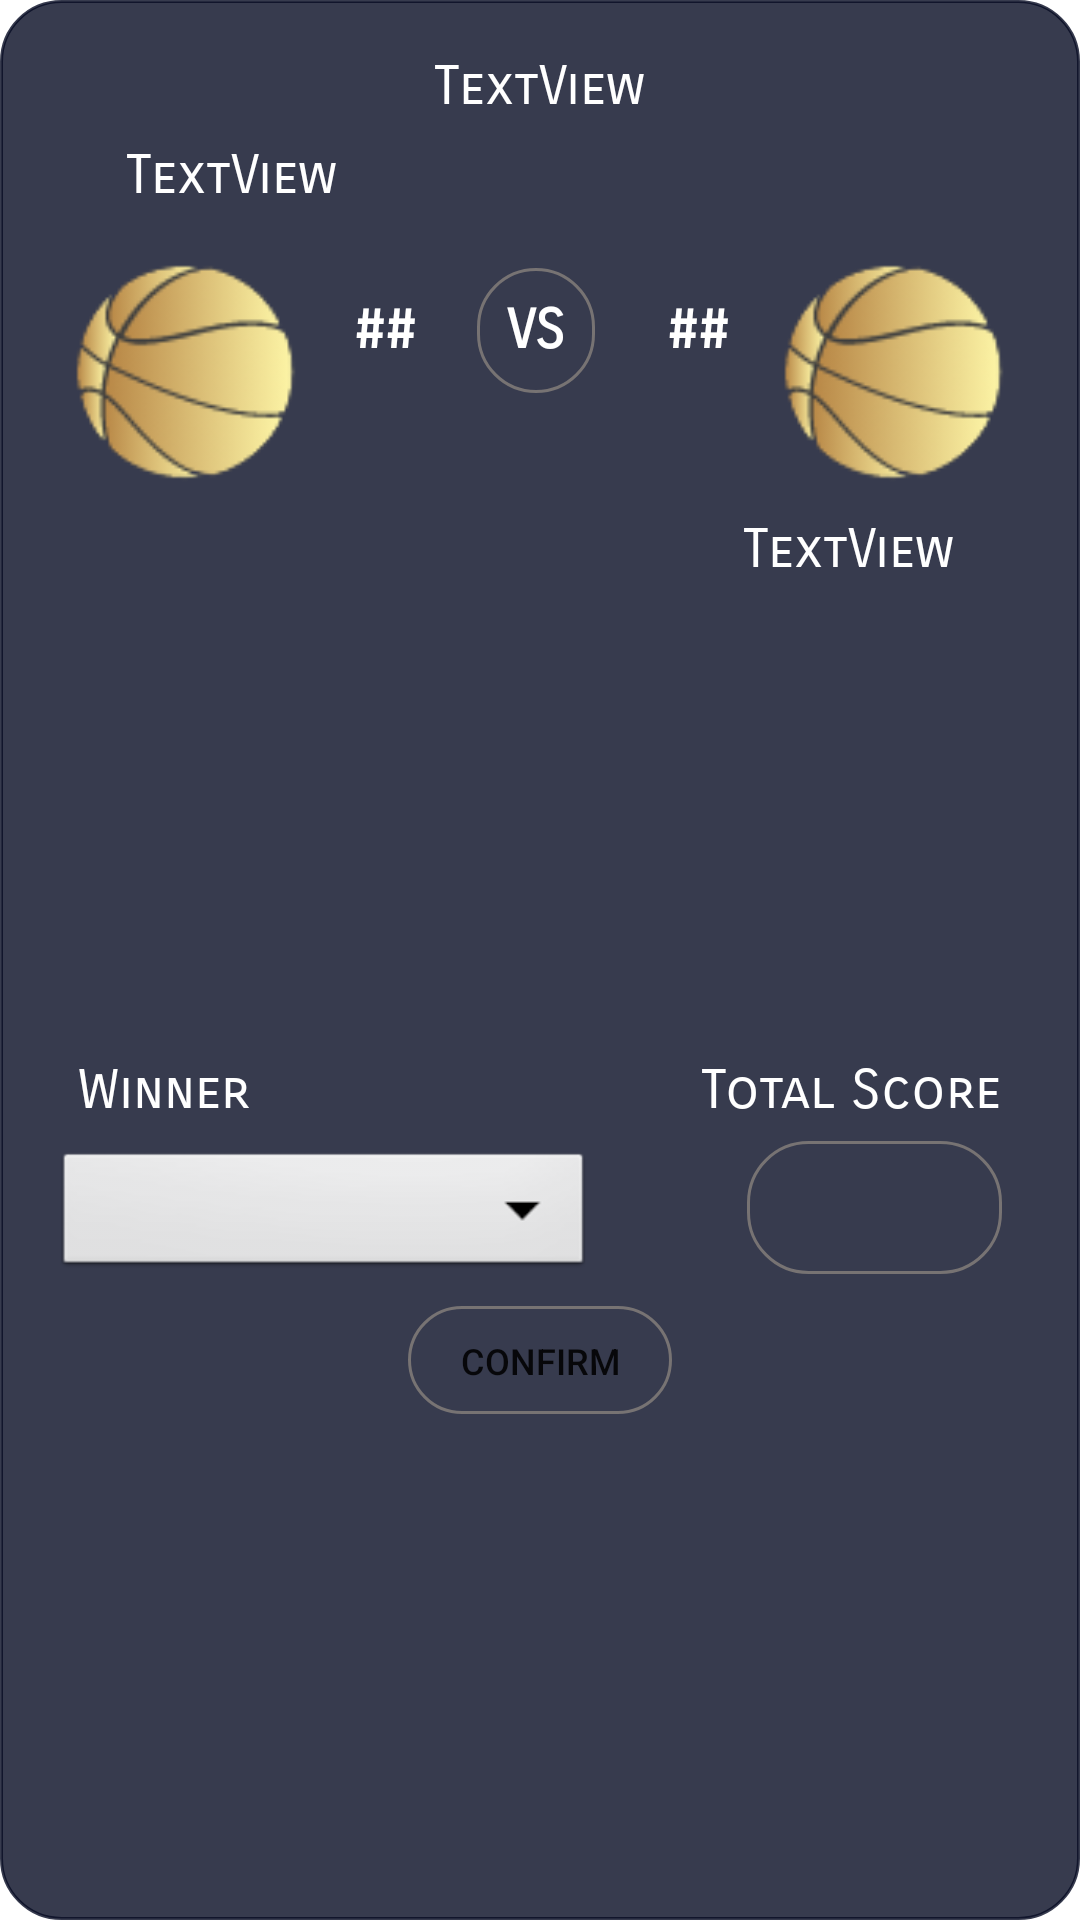

Screen size 1080w x 1920h. Icon name, then its box in pixels as (x1, y1, x2, y2):
basketball: (76, 265, 294, 478), (784, 265, 1002, 478)
